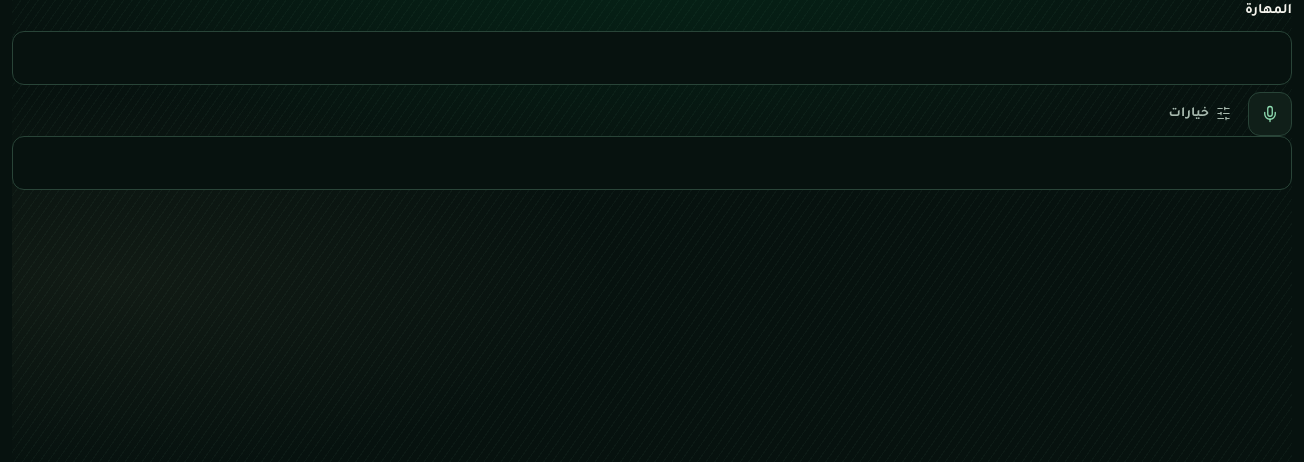
Test: shared mobile dictated fields — local DOM only › ignores late results after another field receives focus or the component is removed
Step 1. Click the button with class "dictation-button" → click(1270, 114), box x1=1248 y1=92 x2=1292 y2=136
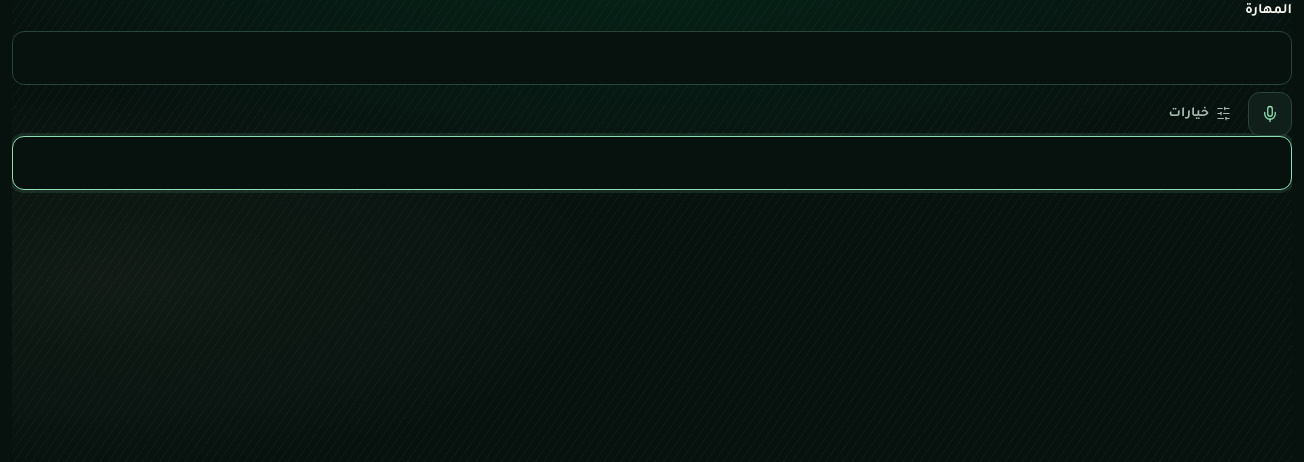
expect the field labelled "المهارة" is empty: met, box x1=12 y1=31 x2=1292 y2=85
Step 2. Click the button with class "dictation-button" → click(1270, 114), box x1=1248 y1=92 x2=1292 y2=136
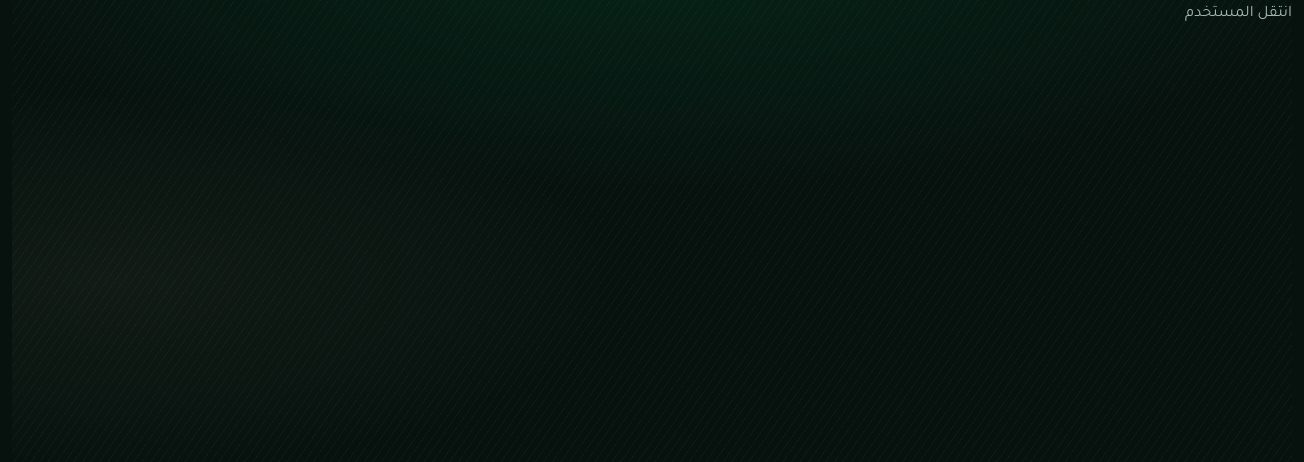
expect the text "انتقل المستخدم" is shown: met, box x1=1185 y1=6 x2=1292 y2=22
